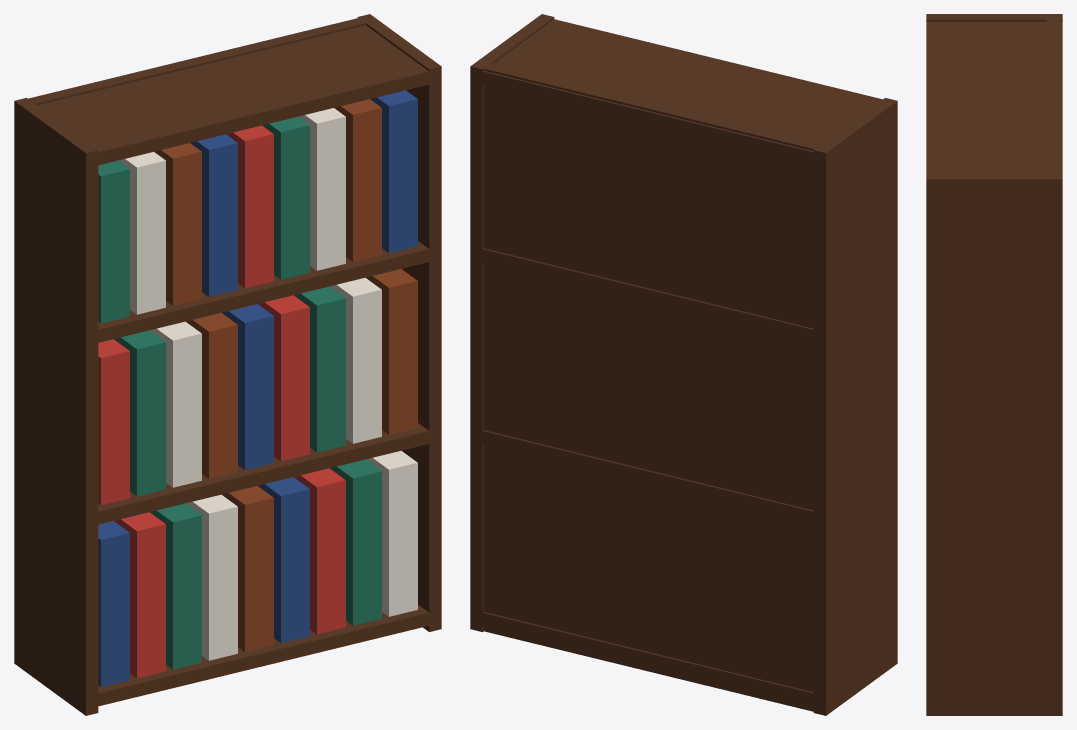
Rendered from station_processing_ausstattung_2_2.glb.
3 renders of one model, left to right at view 1: azimuth 30°, elevation 25°; view 2: azimuth 150°, elevation 25°; view 3: azimuth 270°, elevation 25°, orthographic. The views are drawn at different scales.
Parts seen in each view (by area): view 1: station_processing_ausstattung_2_2; view 2: station_processing_ausstattung_2_2; view 3: station_processing_ausstattung_2_2.
Part boxes in pixels (left/top/right/bottom): station_processing_ausstattung_2_2: left=14, top=14, right=441, bottom=715; station_processing_ausstattung_2_2: left=470, top=14, right=897, bottom=715; station_processing_ausstattung_2_2: left=926, top=14, right=1062, bottom=715.
Bounding box in the file's own units: 0.86 × 1.3 × 0.3.
